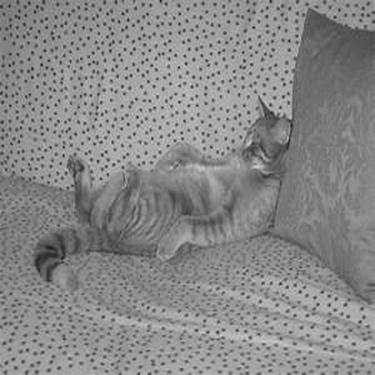cat: (30, 93, 295, 294)
